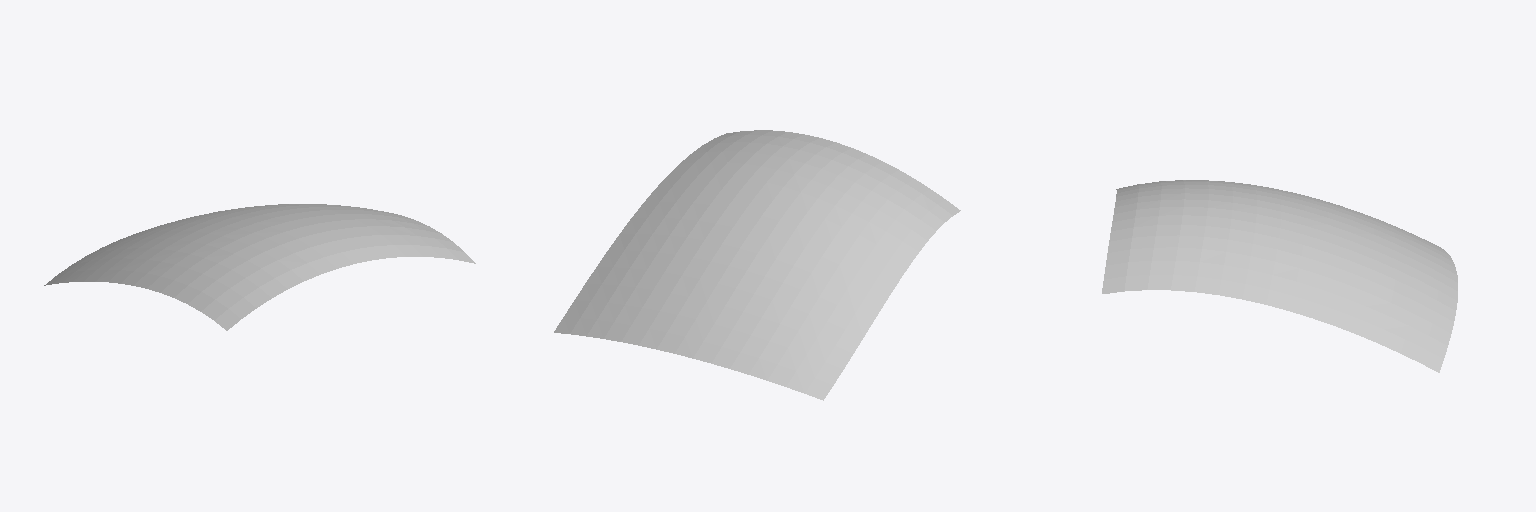
The picture shows the model from 3 angles: view 1: azimuth 30°, elevation 25°; view 2: azimuth 150°, elevation 25°; view 3: azimuth 270°, elevation 25°; orthographic projection.
Visible parts, largest first — view 1: СёрфУчасток; view 2: СёрфУчасток; view 3: СёрфУчасток.
Boxes of the visible parts, <box> form: СёрфУчасток: <box>44,204,475,330</box>; СёрфУчасток: <box>554,130,960,400</box>; СёрфУчасток: <box>1102,180,1457,372</box>.
Bounding box in the file's own units: 1.88 × 0.7266 × 2.15.